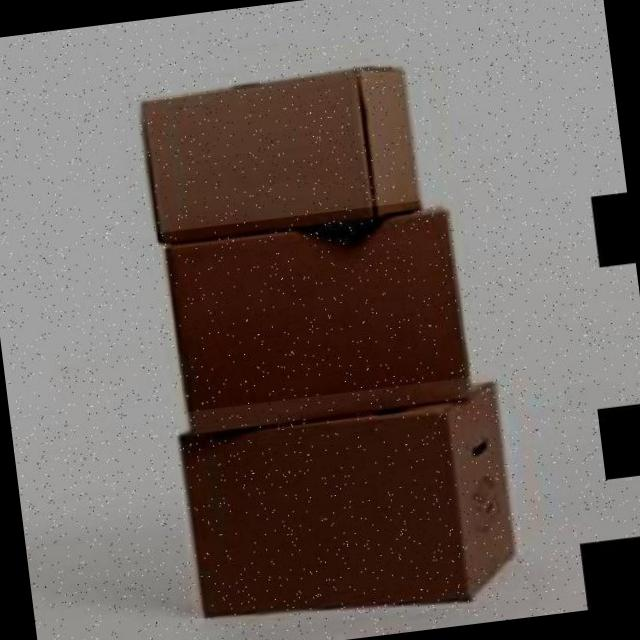box: (168, 373, 530, 638), (157, 196, 478, 442), (130, 54, 428, 254)
